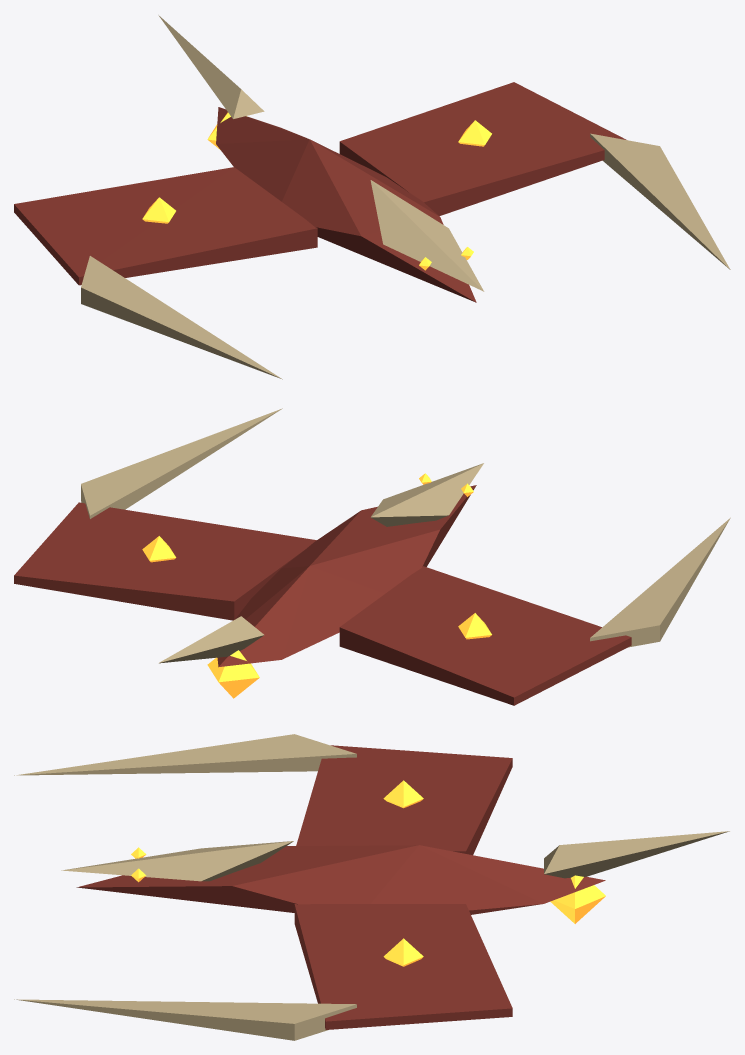
Rendered from Small.glb.
3 renders of one model, top to bottom at view 1: azimuth 30°, elevation 25°; view 2: azimuth 150°, elevation 25°; view 3: azimuth 270°, elevation 25°, orthographic. The views are drawn at different scales.
Parts seen in each view (by area): view 1: wing_L, wing_R, body, pincer_L, pincer_R, head_plate, stinger; view 2: wing_L, wing_R, body, pincer_R, pincer_L, head_plate, stinger, engine_sac, bio_node_L, bio_node_R; view 3: wing_R, body, wing_L, pincer_R, pincer_L, head_plate, stinger, engine_sac, bio_node_R, bio_node_L.
Part boxes in pixels (x1,y1,x2,y2): wing_L: [14, 167, 317, 285]; wing_R: [339, 82, 626, 215]; body: [216, 107, 476, 302]; pincer_L: [81, 256, 282, 379]; pincer_R: [590, 133, 730, 269]; head_plate: [370, 180, 484, 291]; stinger: [158, 15, 264, 118]; wing_L: [339, 566, 631, 705]; wing_R: [14, 502, 316, 620]; body: [217, 485, 476, 667]; pincer_R: [81, 408, 282, 518]; pincer_L: [590, 517, 730, 647]; head_plate: [370, 463, 483, 526]; stinger: [158, 616, 263, 663]; engine_sac: [207, 650, 259, 698]; bio_node_L: [458, 613, 491, 639]; bio_node_R: [142, 536, 176, 562]; wing_R: [294, 904, 512, 1029]; body: [76, 845, 605, 914]; wing_L: [296, 745, 512, 855]; pincer_R: [14, 999, 356, 1040]; pincer_L: [14, 734, 356, 775]; head_plate: [61, 841, 293, 881]; stinger: [544, 831, 729, 878]; engine_sac: [550, 875, 605, 923]; bio_node_R: [383, 938, 423, 966]; bio_node_L: [383, 780, 423, 808].
Size of the model in its own units: 44 by 6.6 by 46.
